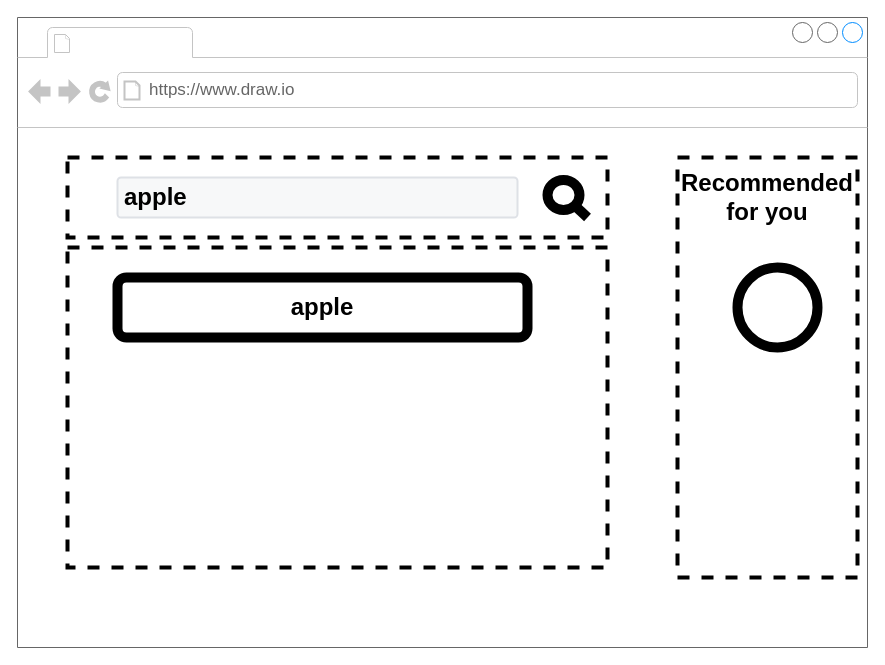
Some shapes in this 885 by 665 pixel diagram are drawn without their labels. Each missing label, with the centre of its shape:
apple pie: the point at 777,307
Page 1: the point at 132,42
